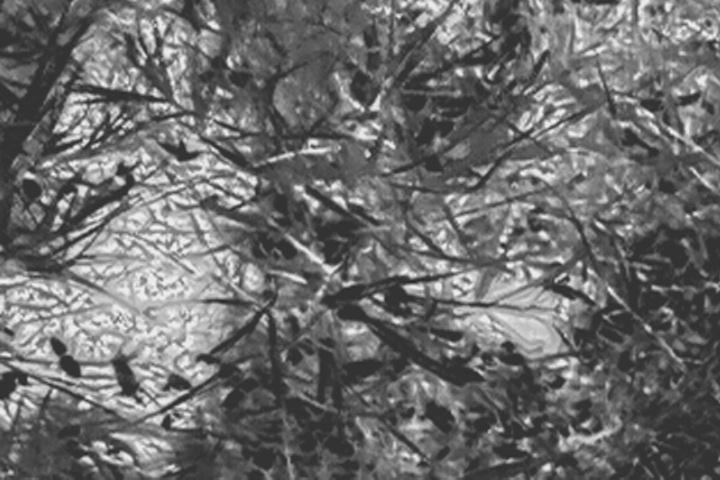landmine: (0, 176, 239, 412)
